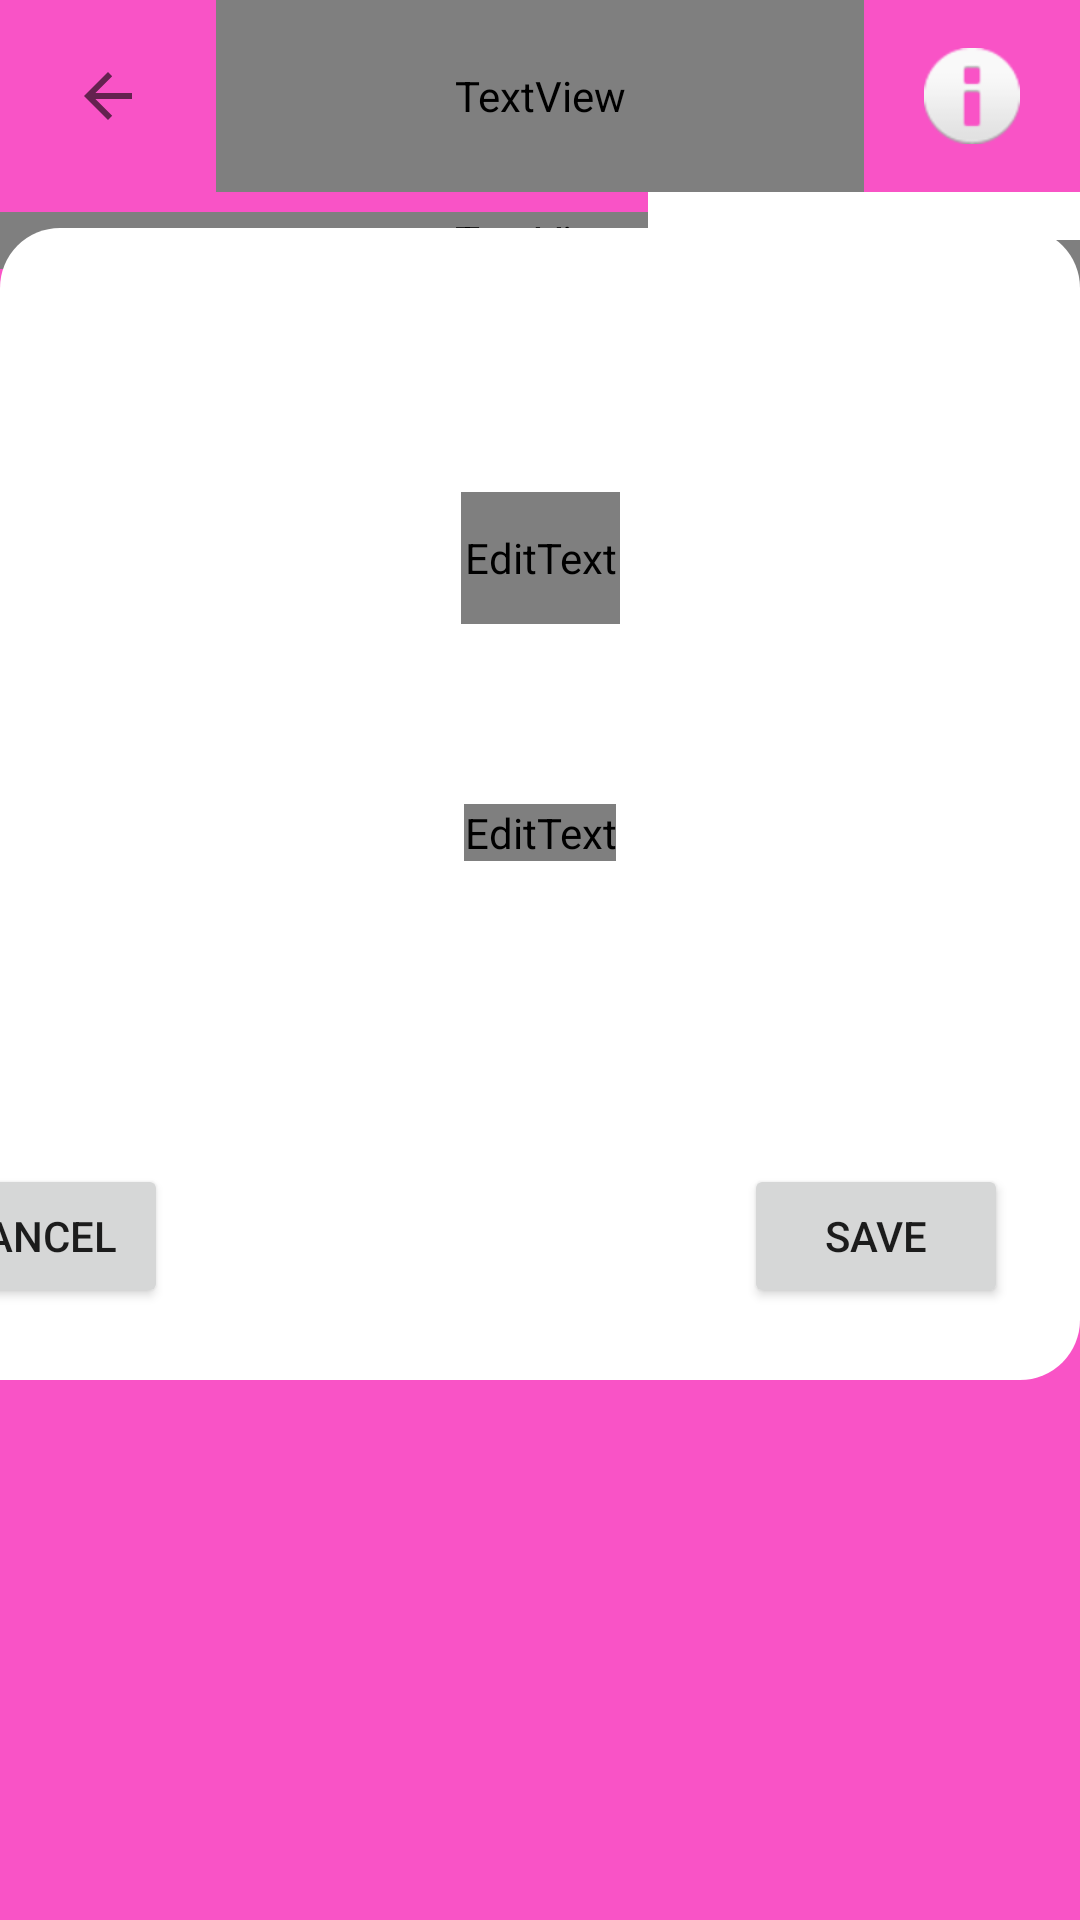

Screen size 1080×1920. Icon name, then its center in pixels as (x,y):
info: (972,96)
